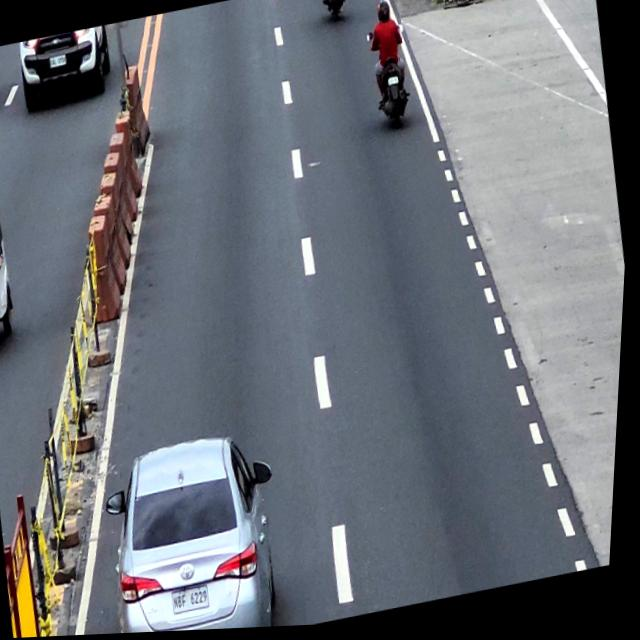Car: (100, 427, 304, 636)
License-Plate: (178, 587, 217, 615), (388, 79, 401, 91)
Motorcycle: (364, 27, 419, 137), (317, 0, 351, 26)
